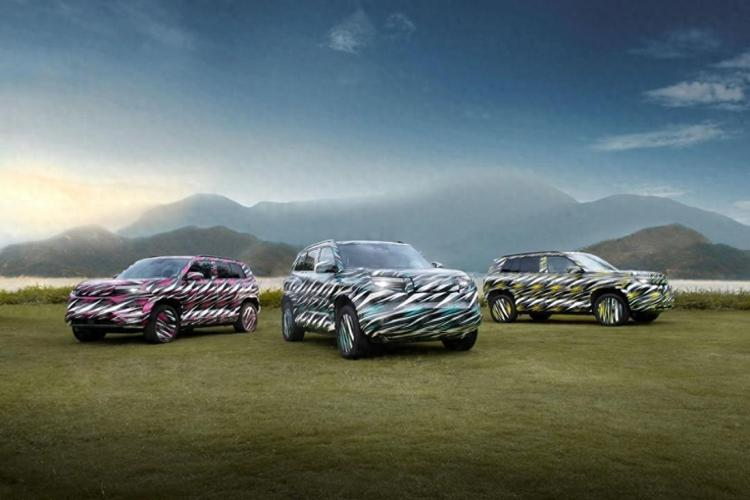汽车: (33, 223, 269, 352), (277, 231, 482, 379), (480, 241, 689, 332)
